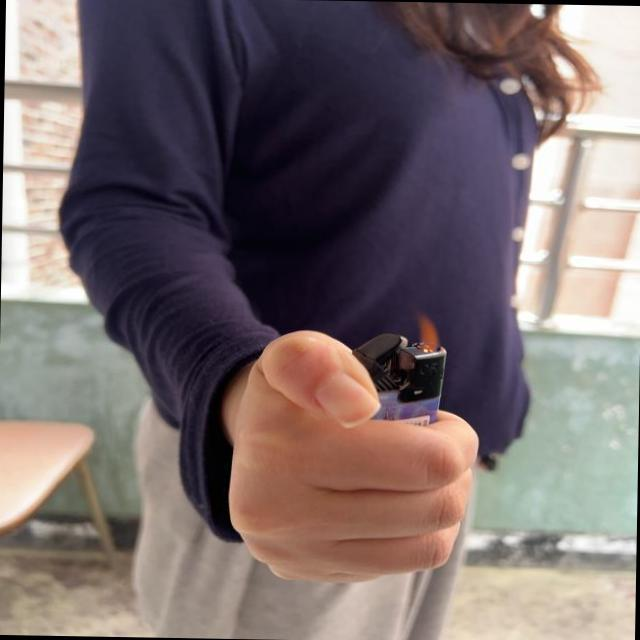Fire: (414, 312, 438, 352)
